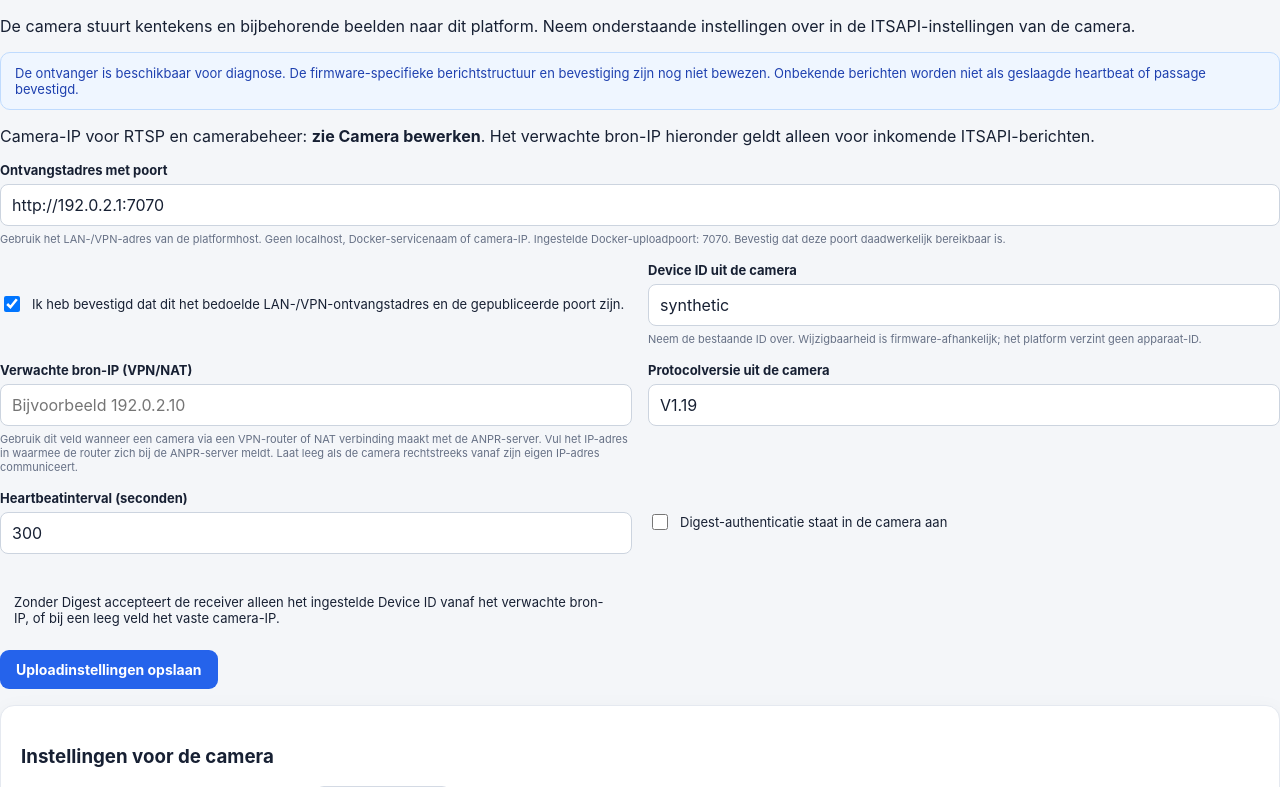
Test: toont Nederlandse veldvalidatie uit de API
The image size is (1280, 787).
Expected: the field labelled "Verwachte bron-IP (VPN/NAT)" is shown, [0,384,632,426]
Click the button "Uploadinstellingen opslaan".
click(109, 670)  # box [0,650,218,689]
(page scrolled)
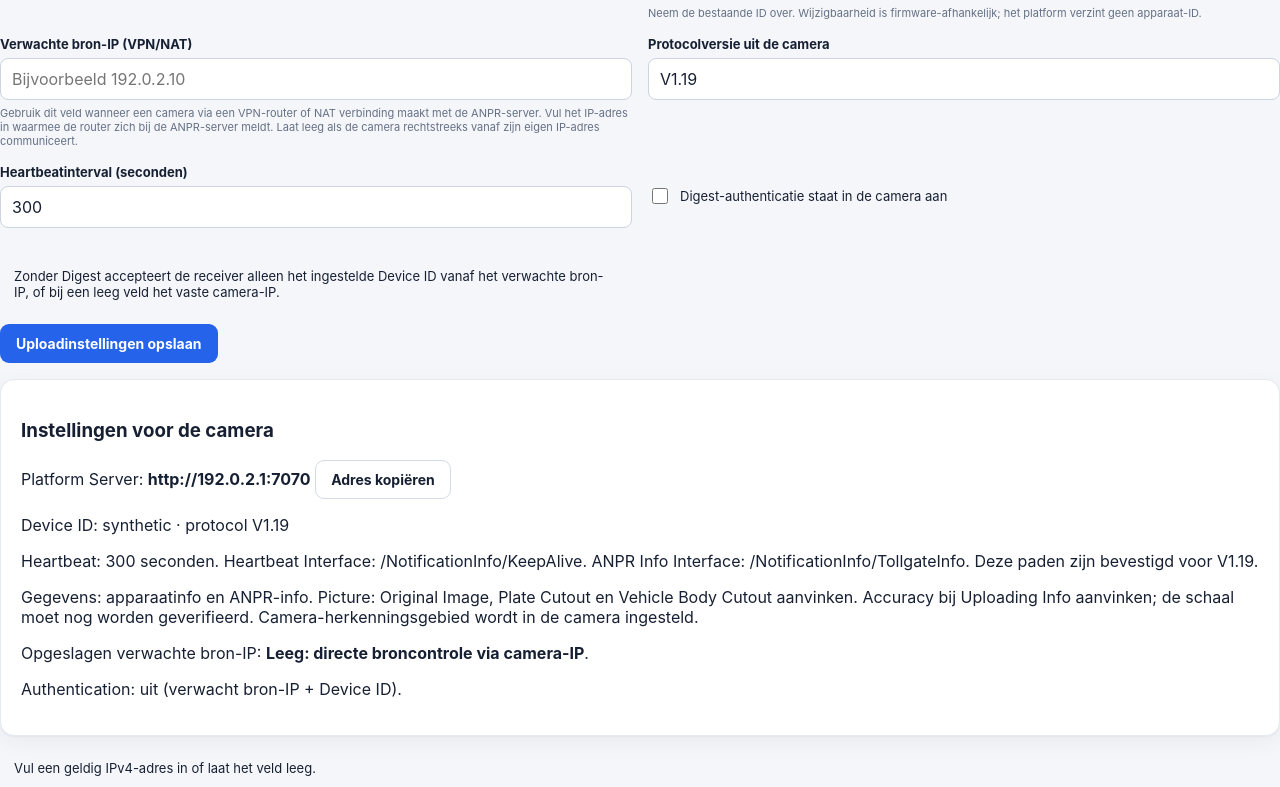
Expected: the text "Vul een geldig IPv4-adres in of laat het veld leeg." is shown, [14,760,316,776]
